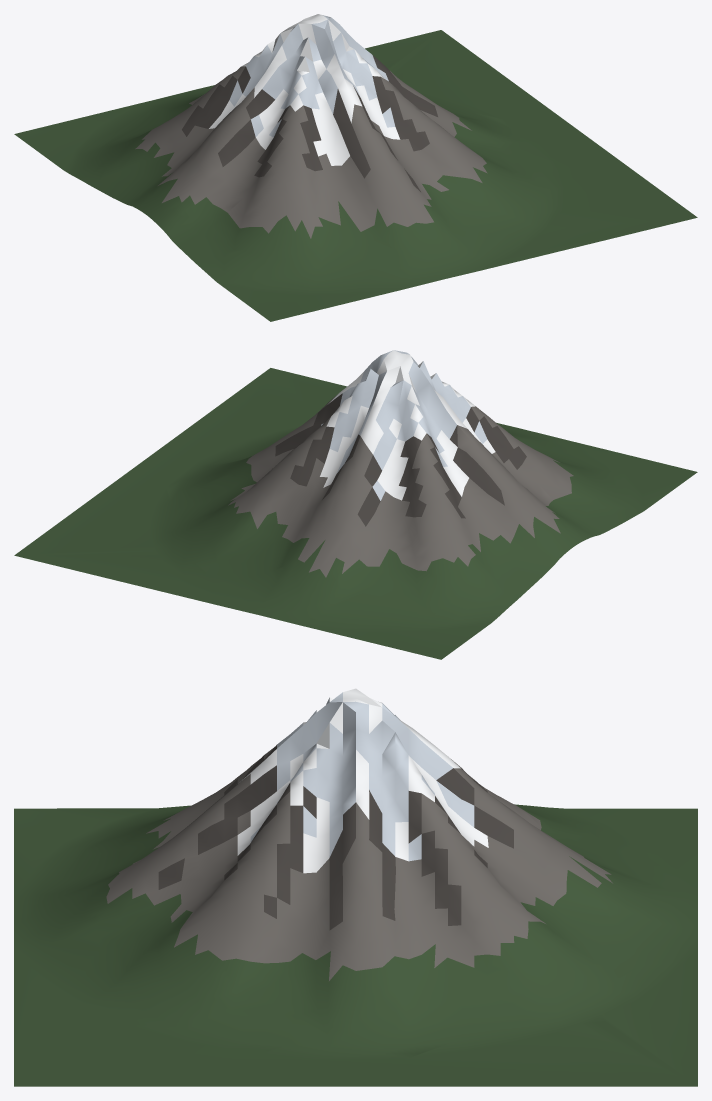
File: landmark-volcano-low.glb
3 renders of one model, top to bottom at view 1: azimuth 30°, elevation 25°; view 2: azimuth 150°, elevation 25°; view 3: azimuth 270°, elevation 25°, orthographic. The views are drawn at different scales.
Parts seen in each view (by area): view 1: volcano.001; view 2: volcano.001; view 3: volcano.001.
Part boxes in pixels (box(x1,y1,x2,y2)): volcano.001: box(14, 14, 697, 321); volcano.001: box(14, 350, 697, 659); volcano.001: box(14, 688, 697, 1086).
Size of the model in its own units: 2.66 by 1 by 2.76.
